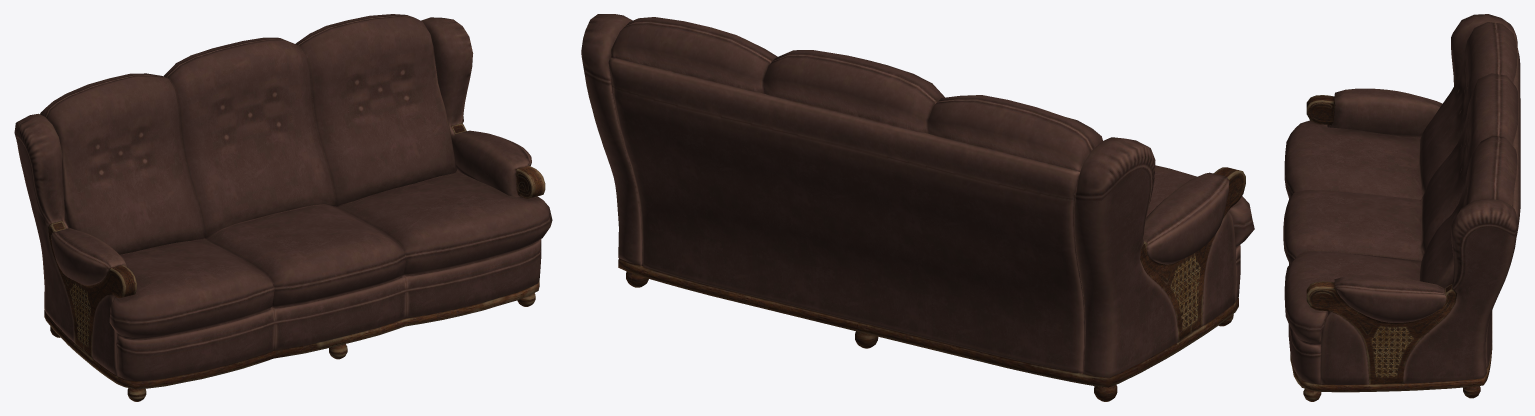
File: essence_rtv_01_low.fbx
3 views of the same model, side by side, from view 1: azimuth 30°, elevation 25°; view 2: azimuth 150°, elevation 25°; view 3: azimuth 270°, elevation 25° (orthographic). The views are drawn at different scales.
Visible parts, largest first — view 1: sofa_low001; view 2: sofa_low001; view 3: sofa_low001.
Part boxes in pixels (bbox=[...]): sofa_low001: bbox=[14, 14, 552, 401]; sofa_low001: bbox=[581, 14, 1254, 401]; sofa_low001: bbox=[1283, 14, 1520, 401].
Bounding box in the file's own units: 193 × 94.21 × 96.22.
